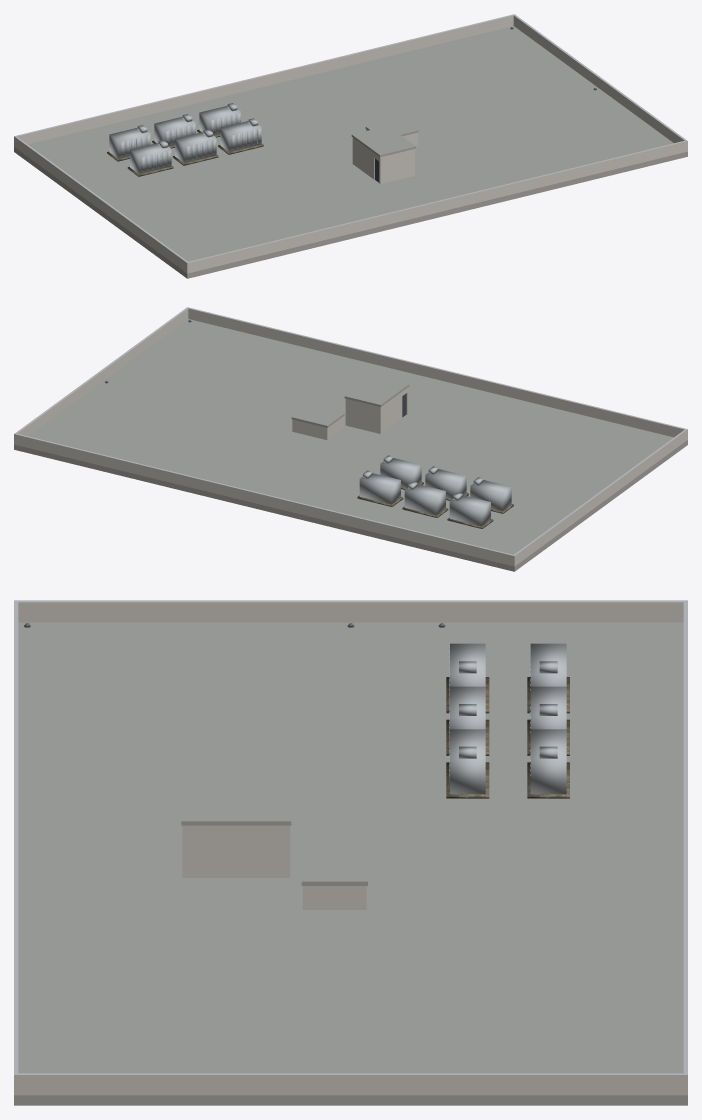
File: 34_azotea.glb
The picture shows the model from 3 angles, top to bottom: view 1: azimuth 30°, elevation 25°; view 2: azimuth 150°, elevation 25°; view 3: azimuth 270°, elevation 25°; orthographic projection. The views are drawn at different scales.
Visible parts, largest first — view 1: Losa de azotea y pretil, uma (×6), tapa de escalera principal, remate del cubo del elevador (sin cuarto de máquinas); view 2: Losa de azotea y pretil, uma (×6), tapa de escalera principal, remate del cubo del elevador (sin cuarto de máquinas); view 3: Losa de azotea y pretil, uma (×6), tapa de escalera principal, remate del cubo del elevador (sin cuarto de máquinas).
Boxes of the visible parts, <box> form: Losa de azotea y pretil: <box>14,14,687,278</box>; uma (×6): <box>107,103,263,176</box>; tapa de escalera principal: <box>351,126,415,184</box>; remate del cubo del elevador (sin cuarto de máquinas): <box>365,118,418,145</box>; Losa de azotea y pretil: <box>14,307,687,571</box>; uma (×6): <box>357,455,513,528</box>; tapa de escalera principal: <box>344,375,409,433</box>; remate del cubo del elevador (sin cuarto de máquinas): <box>291,404,344,440</box>; Losa de azotea y pretil: <box>14,600,687,1105</box>; uma (×6): <box>446,643,569,798</box>; tapa de escalera principal: <box>181,787,291,877</box>; remate del cubo del elevador (sin cuarto de máquinas): <box>301,847,367,909</box>.
Size of the model in its own units: 50 by 3.3 by 30.
Materials: 9 (2 with a texture image).
